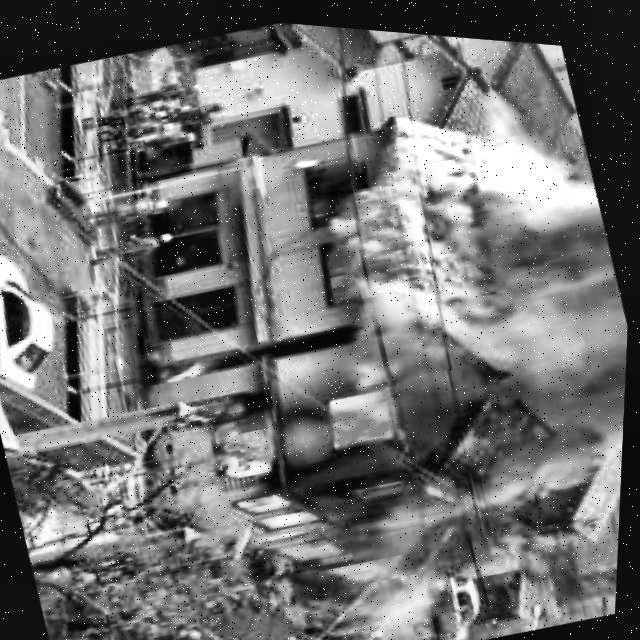Fire: (166, 324, 461, 577), (192, 336, 461, 571), (460, 158, 585, 299), (315, 225, 379, 307), (312, 218, 370, 307)
Smoke: (341, 25, 640, 476)
